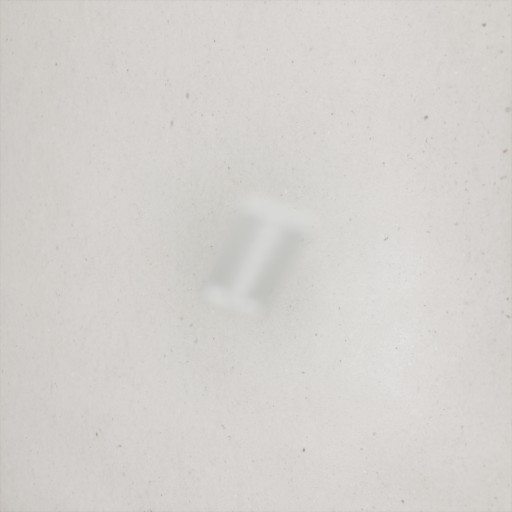lego: (199, 193, 316, 319)
